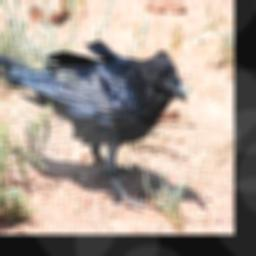Crow: (0, 38, 187, 212)
